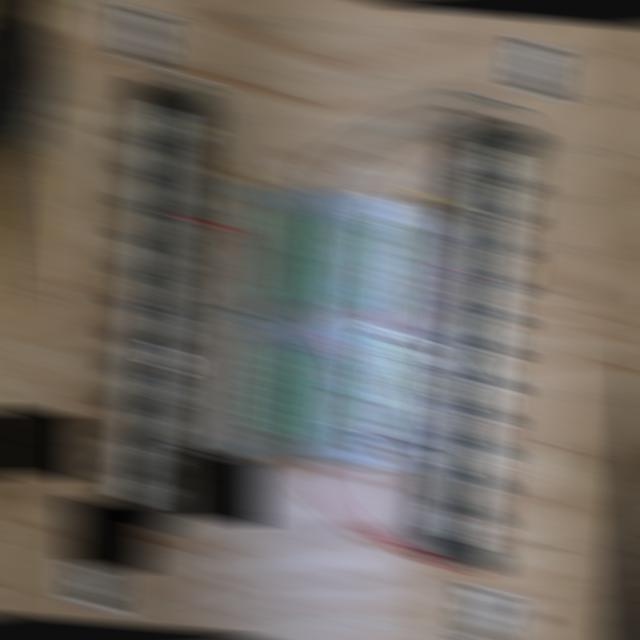Flathead_Block: (425, 118, 539, 572)
Phillips_Block: (94, 80, 204, 534)
Terminal_1: (354, 334, 401, 433), (365, 215, 408, 314)
Terminal_2: (255, 211, 298, 305), (310, 213, 352, 308), (272, 347, 314, 441), (283, 212, 325, 306), (298, 348, 340, 441)
